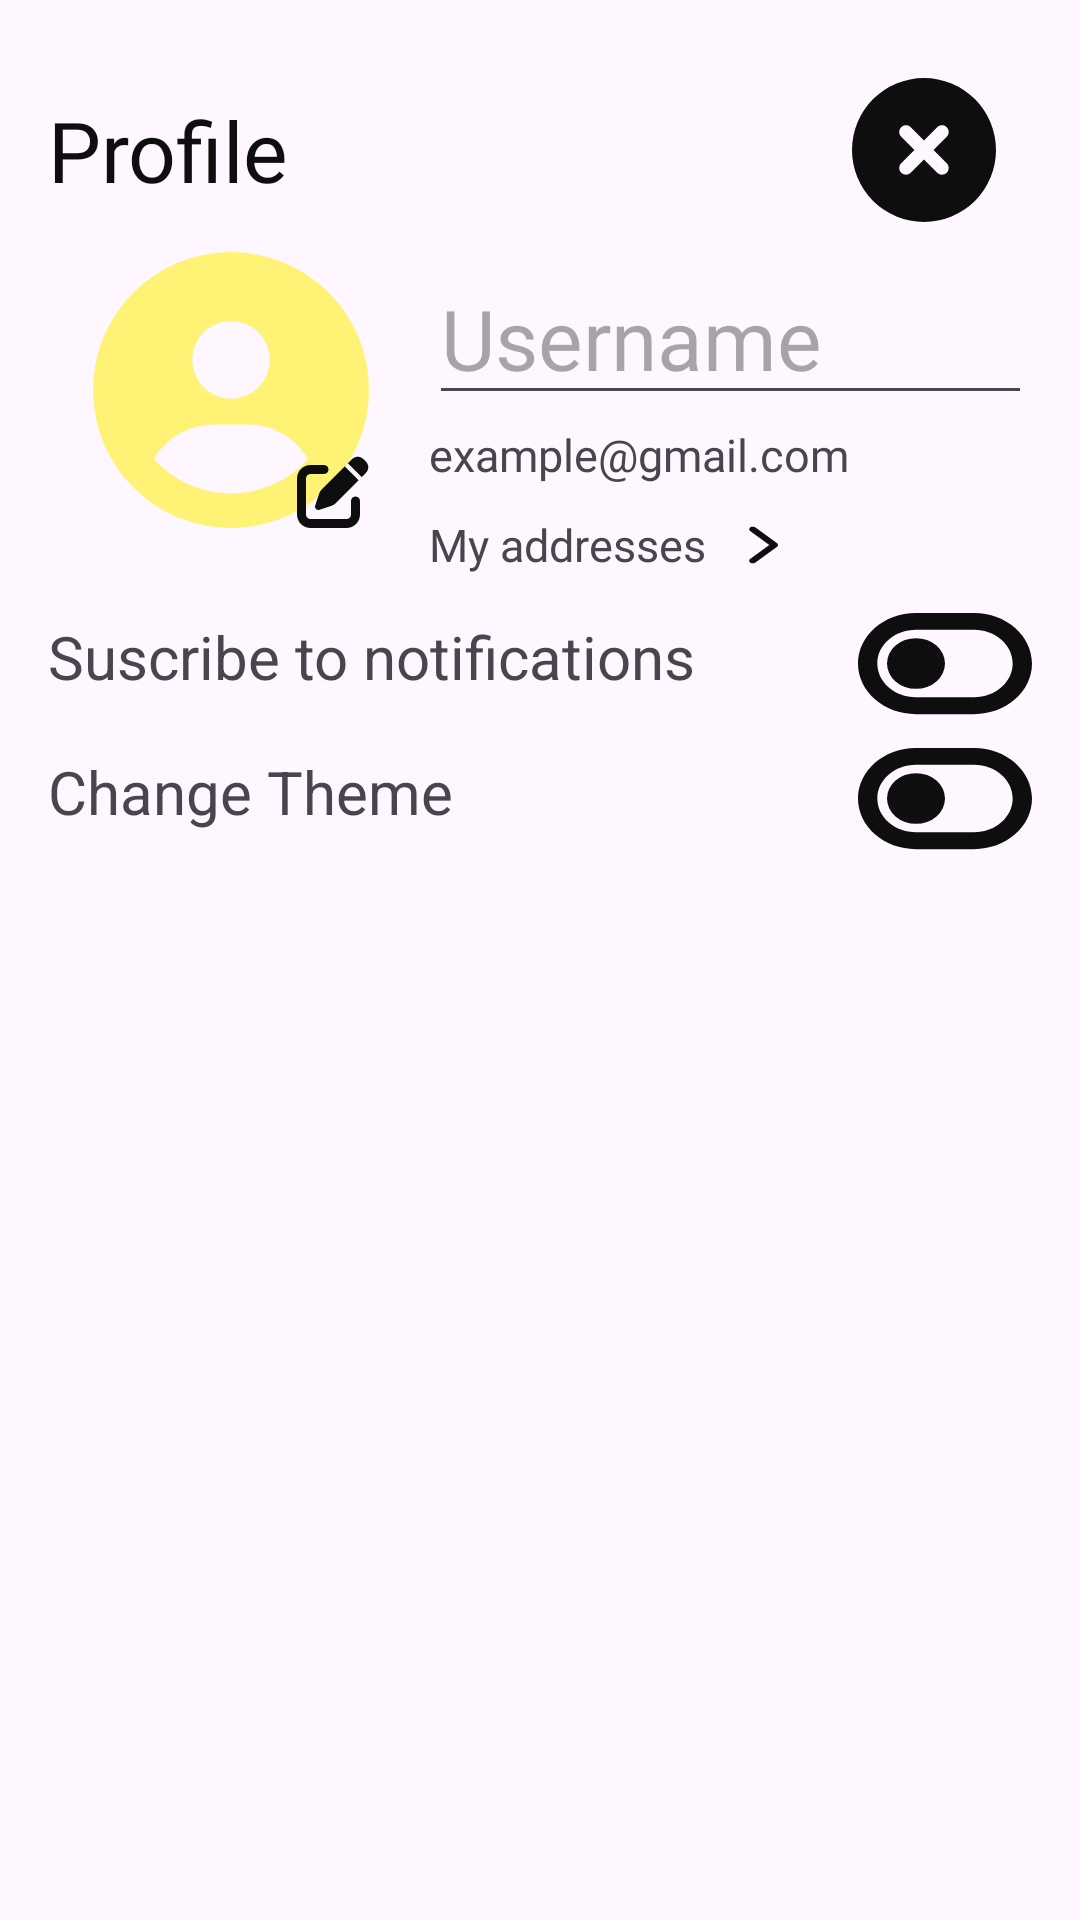

Point at icon controls on the screen. Image size 1080×1920, points as (x,y).
chevron right: (763,545)
circle xmark: (924,150)
